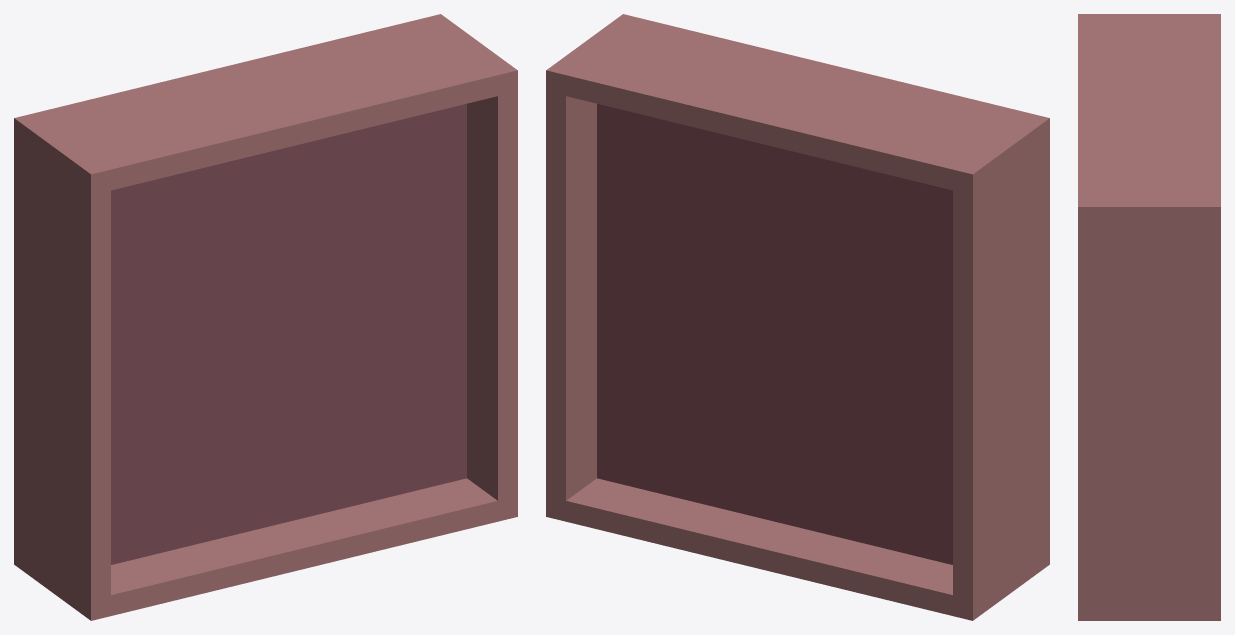
File: sigorta.fbx
3 renders of one model, left to right at view 1: azimuth 30°, elevation 25°; view 2: azimuth 150°, elevation 25°; view 3: azimuth 270°, elevation 25°, orthographic. The views are drawn at different scales.
Visible parts, largest first — view 1: generated; view 2: generated; view 3: generated.
Boxes of the visible parts, x1,y1,x2,y2 form: generated: (14,14,517,620); generated: (546,14,1049,620); generated: (1078,14,1220,620).
Bounding box in the file's own units: 640 × 640 × 200.
